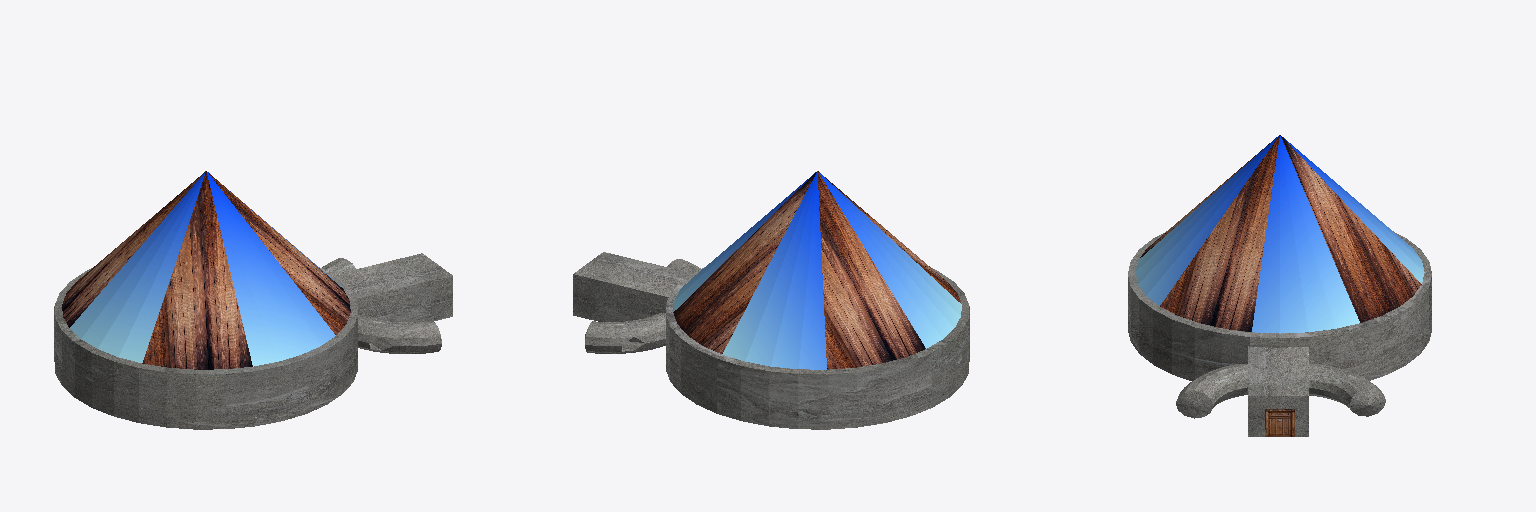
3 renders of one model, left to right at view 1: azimuth 30°, elevation 25°; view 2: azimuth 150°, elevation 25°; view 3: azimuth 270°, elevation 25°, orthographic.
Visible parts, largest first — view 1: Cone, Cylinder, Cube_Cube.001, Torus.002; view 2: Cone, Cylinder, Cube_Cube.001, Torus.001; view 3: Cone, Cylinder, Cube_Cube.001, Torus.001, Torus.002, Plane_Plane.001.
Part boxes in pixels (bbox=[...]): Cone: bbox=[62, 171, 350, 369]; Cylinder: bbox=[54, 267, 357, 429]; Cube_Cube.001: bbox=[334, 253, 452, 321]; Torus.002: bbox=[358, 316, 441, 353]; Cone: bbox=[673, 171, 961, 369]; Cylinder: bbox=[666, 267, 969, 429]; Cube_Cube.001: bbox=[573, 252, 691, 321]; Torus.001: bbox=[585, 313, 665, 353]; Cone: bbox=[1135, 135, 1424, 333]; Cylinder: bbox=[1128, 231, 1431, 380]; Cube_Cube.001: bbox=[1248, 346, 1308, 436]; Torus.001: bbox=[1309, 364, 1385, 416]; Torus.002: bbox=[1176, 364, 1247, 418]; Plane_Plane.001: bbox=[1265, 409, 1294, 436].
Bounding box in the file's own units: 27.52 × 14.11 × 20.
Materials: 7 (4 with a texture image).